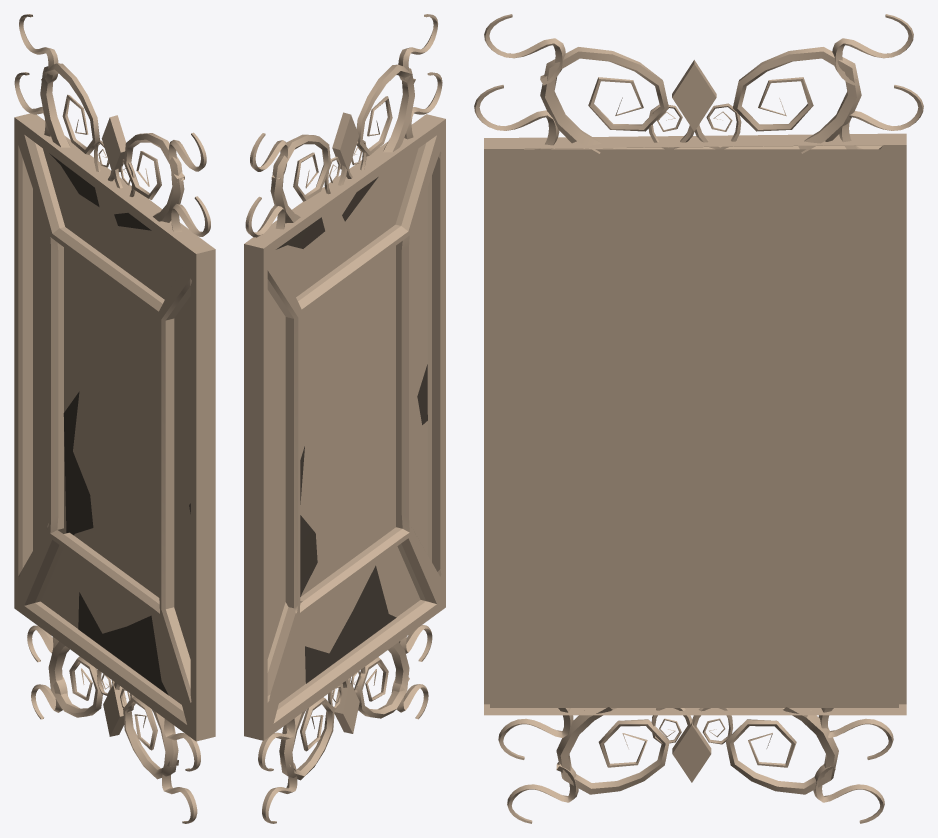
The model's file is Broken_mirror.fbx.
3 views of the same model, side by side, from view 1: azimuth 30°, elevation 25°; view 2: azimuth 150°, elevation 25°; view 3: azimuth 270°, elevation 25° (orthographic). The views are drawn at different scales.
Parts seen in each view (by area): view 1: empty_mirror; view 2: empty_mirror; view 3: empty_mirror.
Boxes of the visible parts, x1=… form: empty_mirror: x1=14, y1=14, x2=215, y2=823; empty_mirror: x1=244, y1=14, x2=445, y2=823; empty_mirror: x1=474, y1=14, x2=923, y2=823.
Size of the model in its own units: 1.84 by 62.77 by 31.65.
